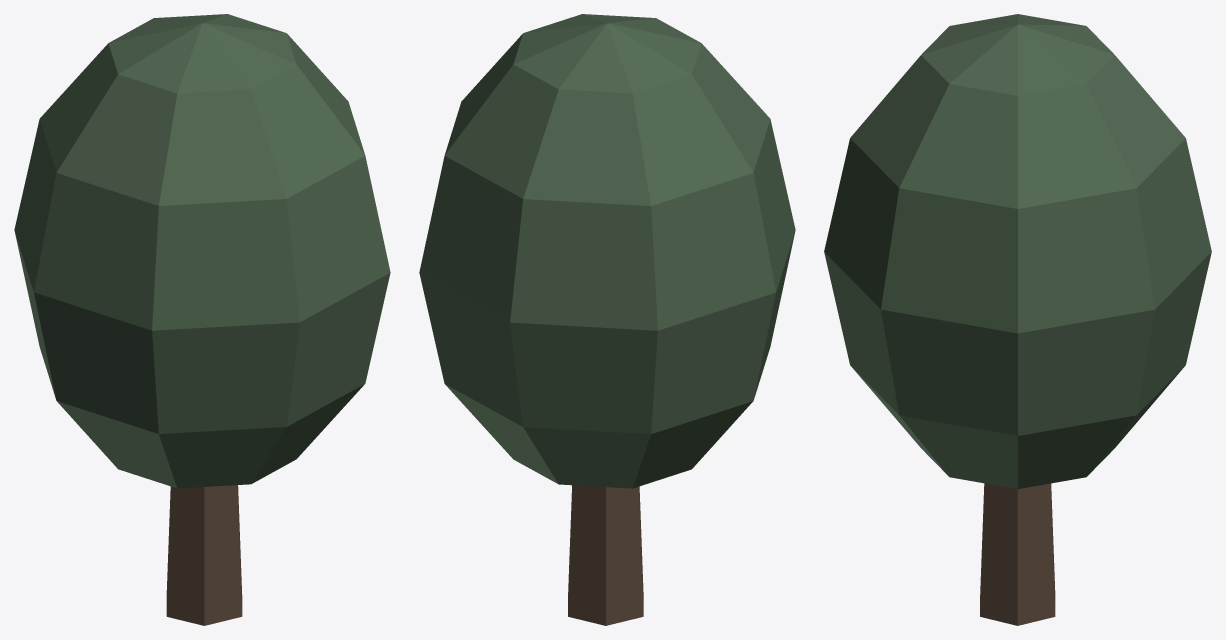
Rendered from BigTreeRound.fbx.
3 renders of one model, left to right at view 1: azimuth 30°, elevation 25°; view 2: azimuth 150°, elevation 25°; view 3: azimuth 270°, elevation 25°, orthographic.
Parts seen in each view (by area): view 1: BigTreeRound; view 2: BigTreeRound; view 3: BigTreeRound.
Boxes of the visible parts, left/top/right/bottom form: BigTreeRound: left=14, top=14, right=390, bottom=625; BigTreeRound: left=419, top=14, right=795, bottom=625; BigTreeRound: left=824, top=14, right=1211, bottom=625.
Size of the model in its own units: 750 by 1243 by 750.
